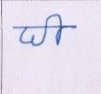i_matra: (47, 13, 65, 45)
